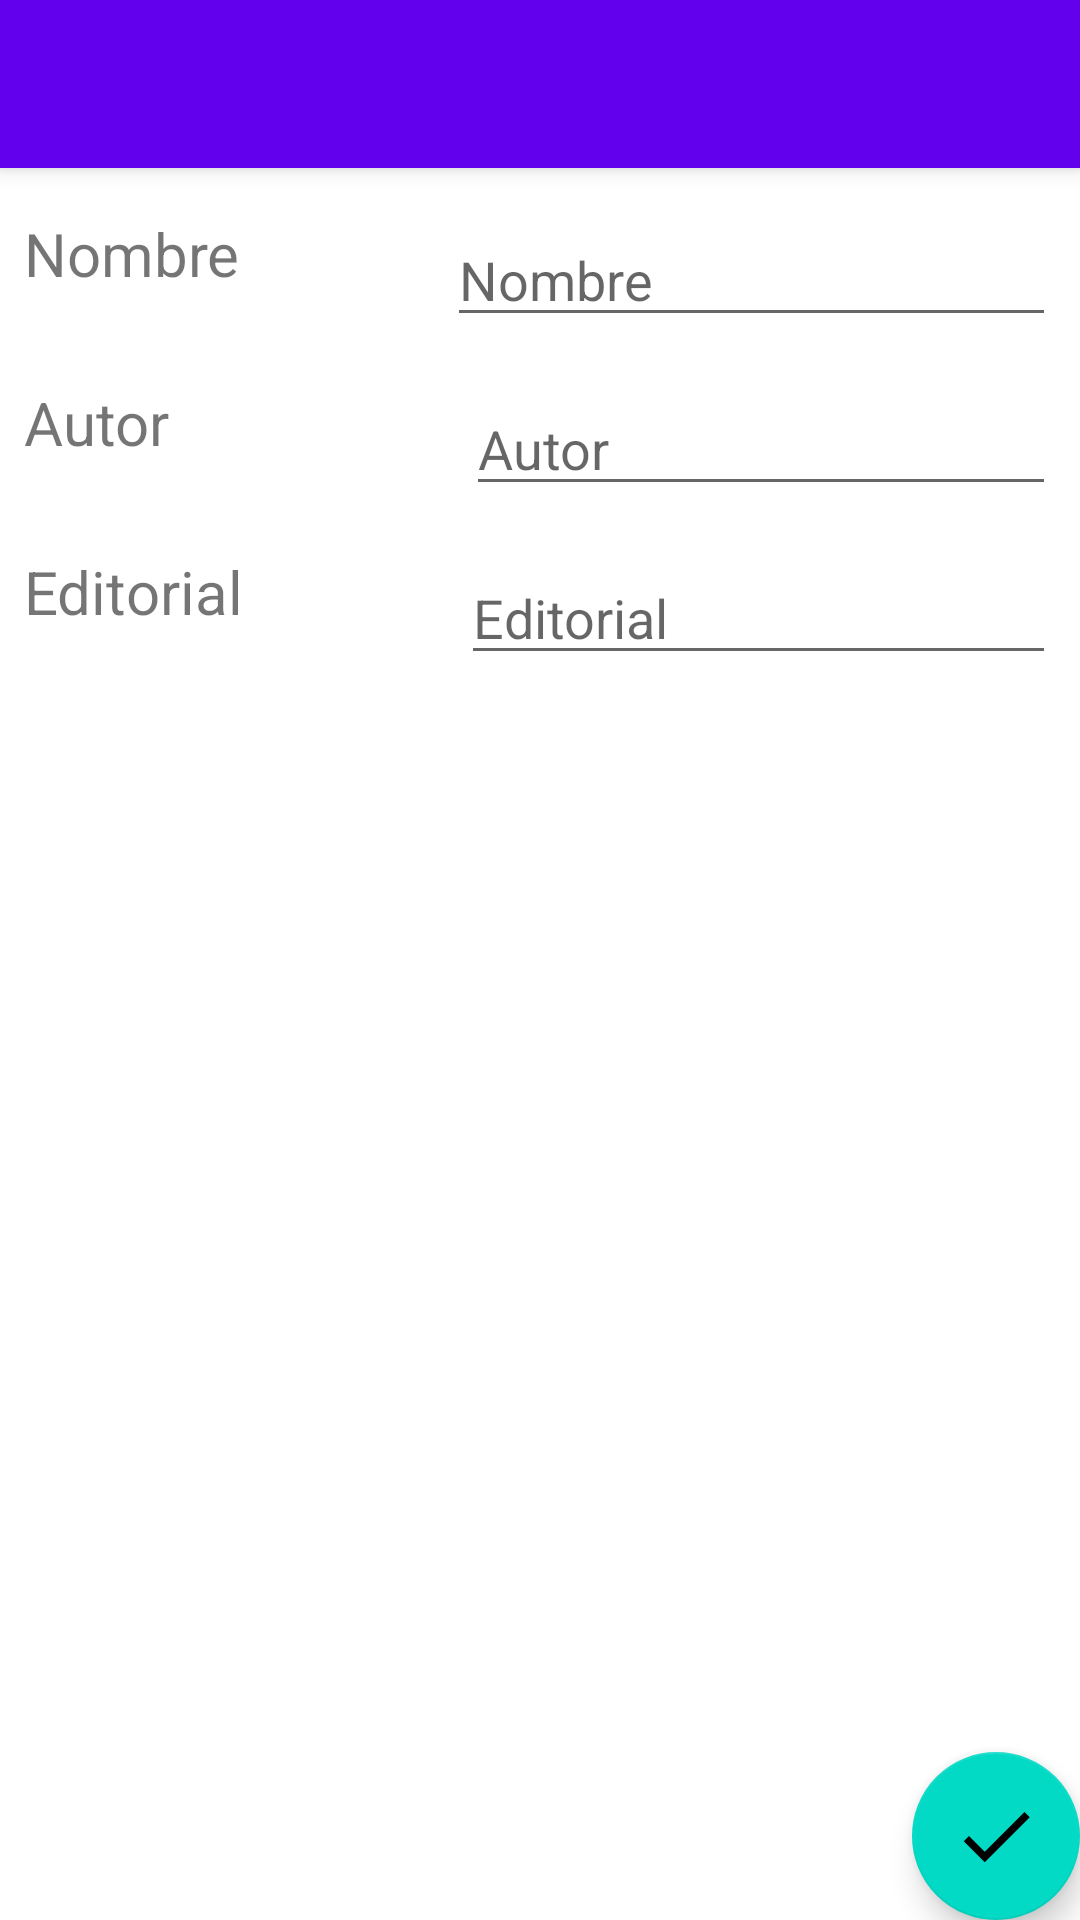

Screen size 1080 x 1920. Icon name, then its box in pixels as Rect(x1, y1, x2, y2):
done: Rect(912, 1752, 1080, 1920)
